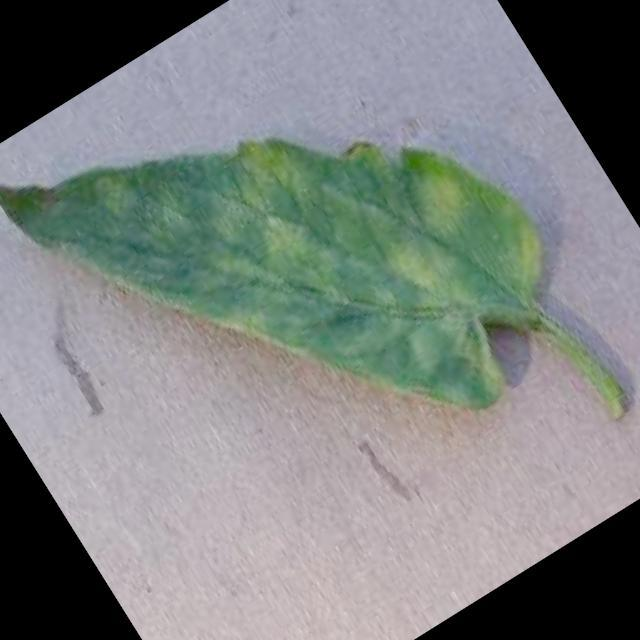Tomato mold leaf: (0, 0, 598, 567)
